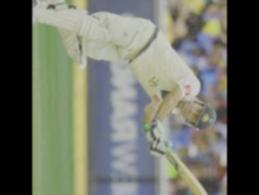batsman: (32, 0, 219, 195)
